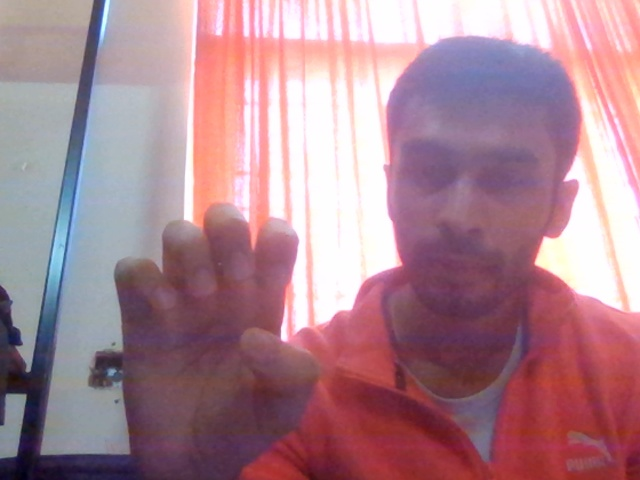E: (110, 202, 355, 480)
